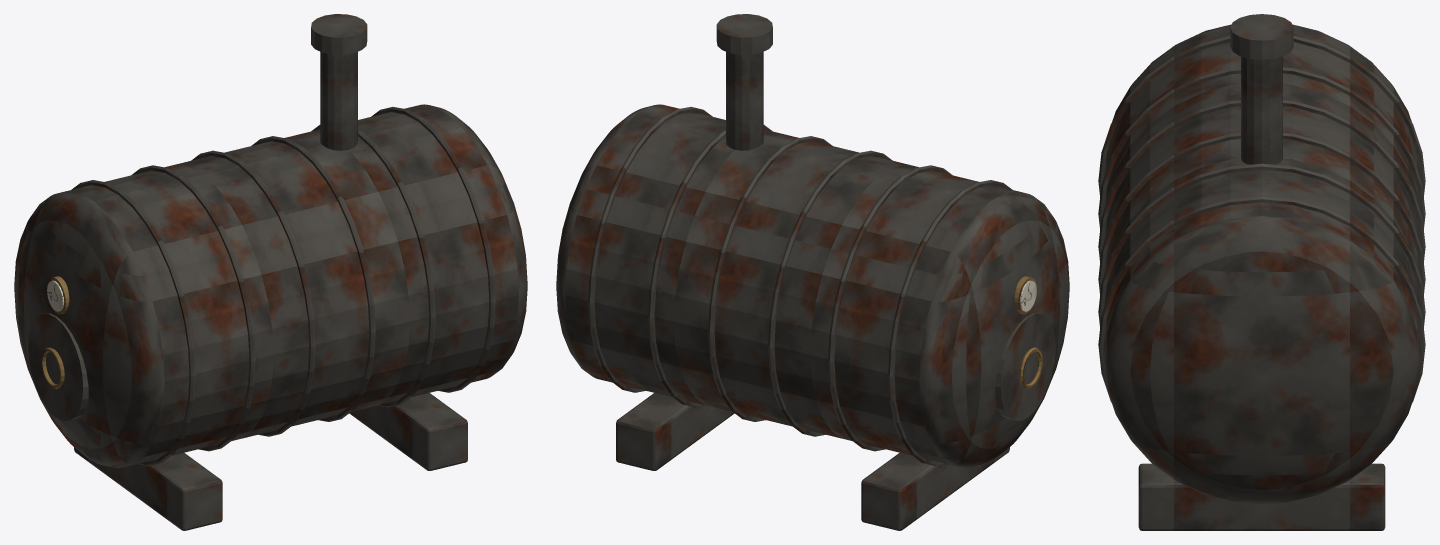
Rendered from HM07_Boiler.glb.
The picture shows the model from 3 angles, left to right: view 1: azimuth 30°, elevation 25°; view 2: azimuth 150°, elevation 25°; view 3: azimuth 270°, elevation 25°; orthographic projection. The views are drawn at different scales.
Visible parts, largest first — view 1: HM07_Boiler; view 2: HM07_Boiler; view 3: HM07_Boiler.
Part boxes in pixels (x1=…): HM07_Boiler: x1=14, y1=14, x2=527, y2=530; HM07_Boiler: x1=556, y1=14, x2=1069, y2=530; HM07_Boiler: x1=1098, y1=14, x2=1425, y2=530.
Bounding box in the file's own units: 3 × 2.74 × 1.75.
Materials: 3 (3 with a texture image).
